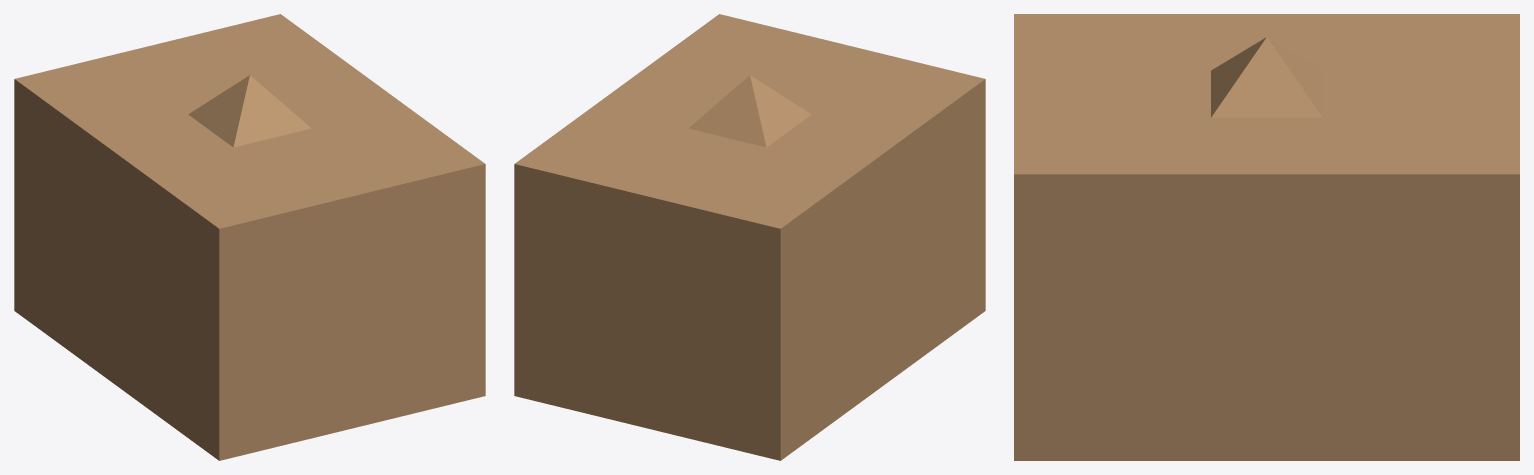
Rendered from WoodHouse.fbx.
3 views of the same model, side by side, from view 1: azimuth 30°, elevation 25°; view 2: azimuth 150°, elevation 25°; view 3: azimuth 270°, elevation 25° (orthographic). The views are drawn at different scales.
Parts seen in each view (by area): view 1: WoodHouse; view 2: WoodHouse; view 3: WoodHouse.
Part boxes in pixels (bbox=[...]): WoodHouse: bbox=[14, 14, 485, 460]; WoodHouse: bbox=[514, 14, 985, 460]; WoodHouse: bbox=[1014, 14, 1519, 460].
Bounding box in the file's own units: 6 × 6 × 8.
